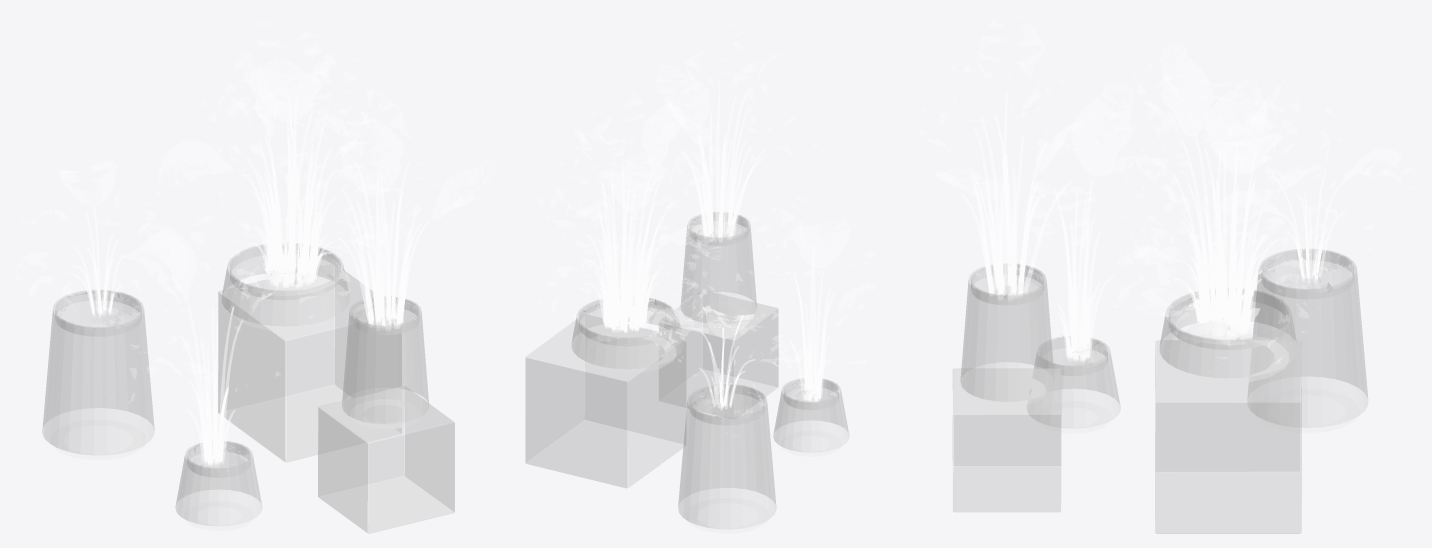
File: plants_hq.lod.glb
3 views of the same model, side by side, from view 1: azimuth 30°, elevation 25°; view 2: azimuth 150°, elevation 25°; view 3: azimuth 270°, elevation 25° (orthographic). The views are drawn at different scales.
Visible parts, largest first — view 1: Marble_White002, Marble_White001, Bird_Of_ParadiseBird_Version04, Bird_Of_ParadiseBird_Version04_2_Vase003, Bird_Of_ParadiseBird_Version04_2, Bird_Of_ParadiseBird_Version04_2_Vase000, Bird_Of_ParadiseBird_Version04_2_Vase001, Bird_Of_ParadiseBird_Version04_3, Bird_Of_ParadiseBird_Version04_2_Vase002, Bird_Of_ParadiseBird_Version04_4; view 2: Marble_White002, Bird_Of_ParadiseBird_Version04, Bird_Of_ParadiseBird_Version04_2_Vase003, Marble_White001, Bird_Of_ParadiseBird_Version04_2_Vase000, Bird_Of_ParadiseBird_Version04_2, Bird_Of_ParadiseBird_Version04_3, Bird_Of_ParadiseBird_Version04_2_Vase001, Bird_Of_ParadiseBird_Version04_2_Vase002, Bird_Of_ParadiseBird_Version04_4; view 3: Marble_White002, Bird_Of_ParadiseBird_Version04, Bird_Of_ParadiseBird_Version04_2_Vase003, Marble_White001, Bird_Of_ParadiseBird_Version04_2_Vase000, Bird_Of_ParadiseBird_Version04_2, Bird_Of_ParadiseBird_Version04_3, Bird_Of_ParadiseBird_Version04_2_Vase001, Bird_Of_ParadiseBird_Version04_2_Vase002, Bird_Of_ParadiseBird_Version04_4.
Part boxes in pixels (<box>): Marble_White002: <box>218,264,401,462</box>; Marble_White001: <box>318,386,454,533</box>; Bird_Of_ParadiseBird_Version04: <box>157,16,409,323</box>; Bird_Of_ParadiseBird_Version04_2_Vase003: <box>42,290,154,459</box>; Bird_Of_ParadiseBird_Version04_2: <box>278,89,496,329</box>; Bird_Of_ParadiseBird_Version04_2_Vase000: <box>342,297,428,428</box>; Bird_Of_ParadiseBird_Version04_2_Vase001: <box>222,244,348,330</box>; Bird_Of_ParadiseBird_Version04_3: <box>112,224,298,466</box>; Bird_Of_ParadiseBird_Version04_2_Vase002: <box>175,441,262,530</box>; Bird_Of_ParadiseBird_Version04_4: <box>15,155,187,322</box>; Marble_White002: <box>525,314,686,488</box>; Bird_Of_ParadiseBird_Version04: <box>534,92,726,344</box>; Bird_Of_ParadiseBird_Version04_2_Vase003: <box>678,384,776,533</box>; Marble_White001: <box>659,291,778,417</box>; Bird_Of_ParadiseBird_Version04_2_Vase000: <box>681,212,756,327</box>; Bird_Of_ParadiseBird_Version04_2: <box>629,23,826,241</box>; Bird_Of_ParadiseBird_Version04_3: <box>752,182,884,402</box>; Bird_Of_ParadiseBird_Version04_2_Vase001: <box>572,298,683,372</box>; Bird_Of_ParadiseBird_Version04_2_Vase002: <box>773,378,849,456</box>; Bird_Of_ParadiseBird_Version04_4: <box>649,271,814,435</box>; Marble_White002: <box>1155,340,1301,533</box>; Bird_Of_ParadiseBird_Version04: <box>1107,42,1341,371</box>; Bird_Of_ParadiseBird_Version04_2_Vase003: <box>1247,249,1367,432</box>; Marble_White001: <box>953,368,1060,511</box>; Bird_Of_ParadiseBird_Version04_2_Vase000: <box>960,264,1054,406</box>; Bird_Of_ParadiseBird_Version04_2: <box>919,15,1106,299</box>; Bird_Of_ParadiseBird_Version04_3: <box>1024,82,1174,362</box>; Bird_Of_ParadiseBird_Version04_2_Vase001: <box>1160,288,1297,383</box>; Bird_Of_ParadiseBird_Version04_2_Vase002: <box>1027,336,1120,433</box>; Bird_Of_ParadiseBird_Version04_4: <box>1203,107,1417,291</box>.
Bounding box in the file's own units: 1737 × 1986 × 2032.
Materials: 5 (1 with a texture image).
